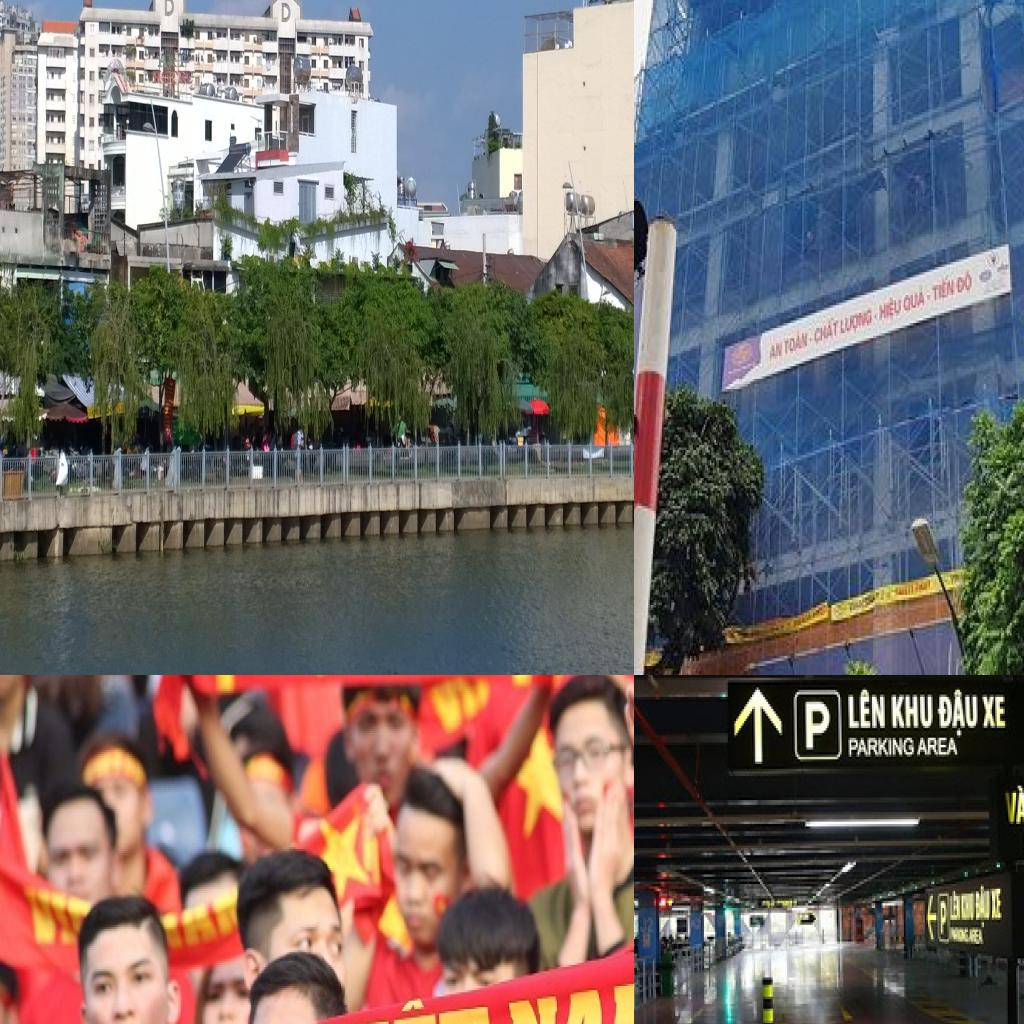text: (498, 965, 634, 1024), (313, 985, 494, 1024), (938, 688, 980, 742), (848, 735, 917, 762), (891, 692, 936, 733), (848, 690, 888, 735), (803, 700, 834, 754), (839, 305, 875, 341), (916, 736, 962, 760), (981, 694, 1008, 733), (813, 313, 841, 346), (902, 285, 927, 320), (1004, 786, 1024, 829), (930, 272, 956, 305), (784, 328, 810, 359), (876, 292, 902, 323), (989, 886, 1005, 925), (955, 267, 973, 298), (939, 898, 949, 940), (280, 1, 292, 26), (770, 341, 784, 361), (163, 0, 175, 19)
